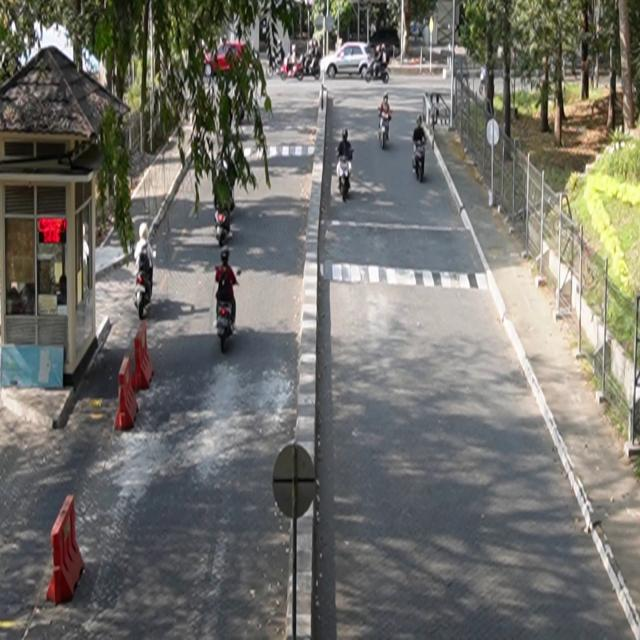car: (320, 43, 375, 79)
